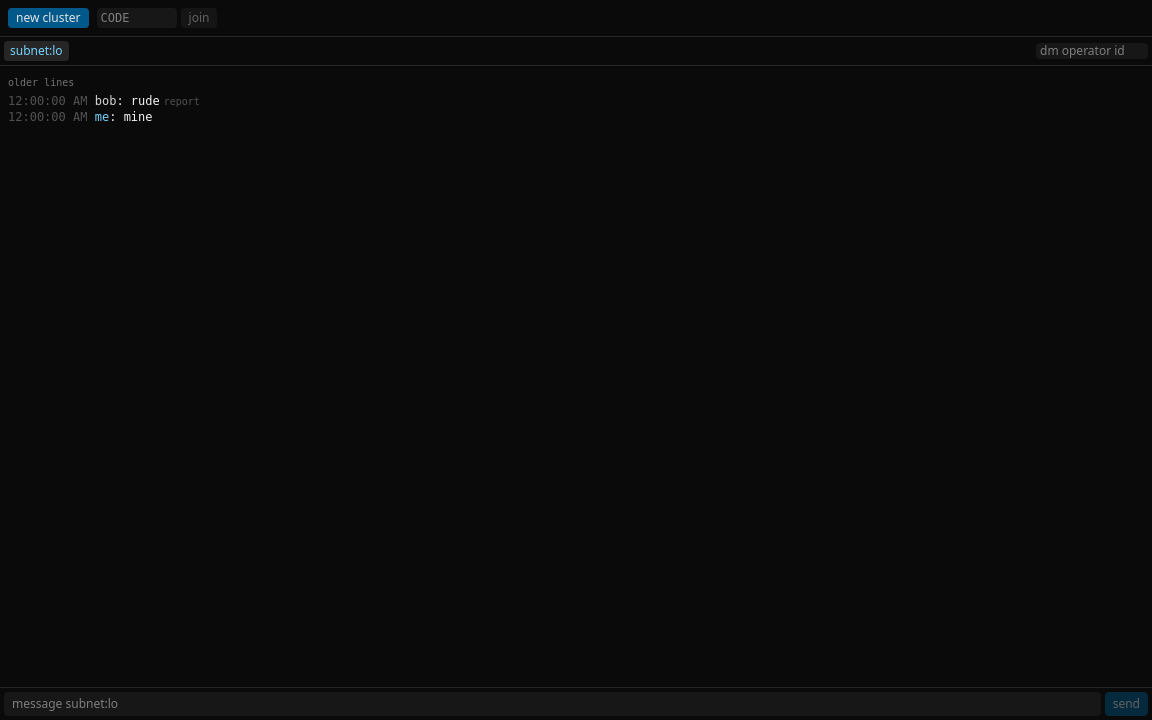
Scenario: ChatPanel › reports a line: reason and note go to the API, the reporter only sees "report received"; own lines have no report button
This screenshot has width=1152, height=720.
Click the button with test id "report-m1" at coordinates (182, 102), box [164, 95, 200, 109]
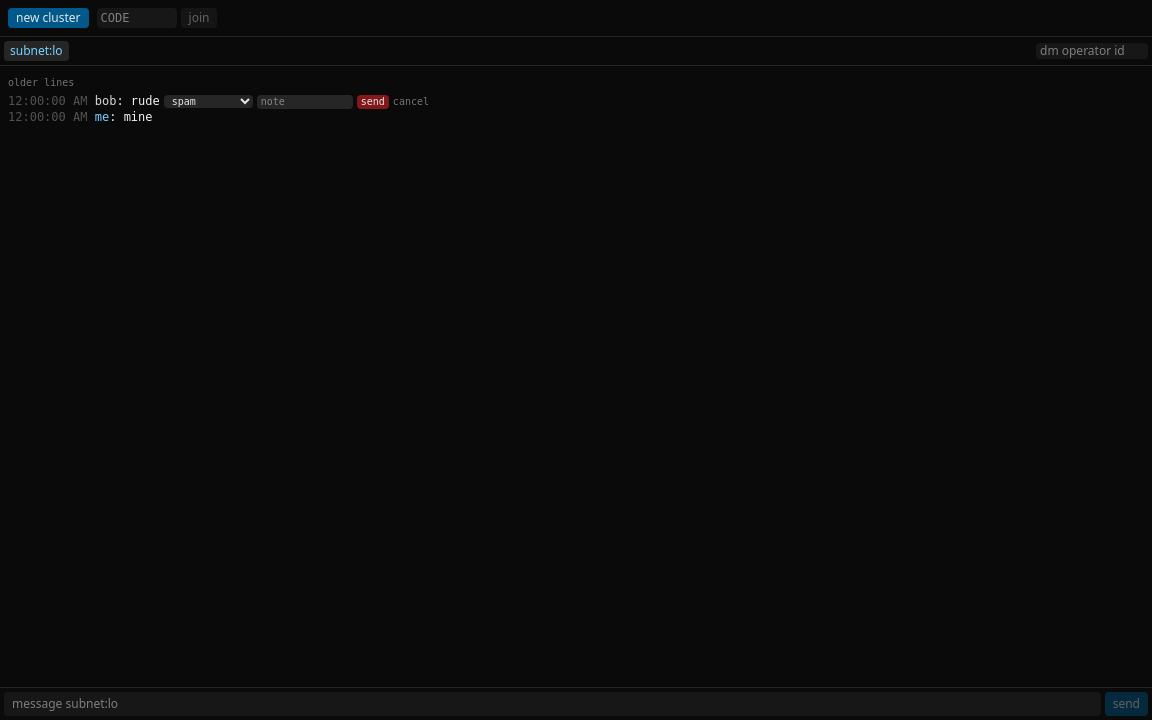
Click the button with test id "report-send" at coordinates (373, 102), box [357, 95, 389, 108]
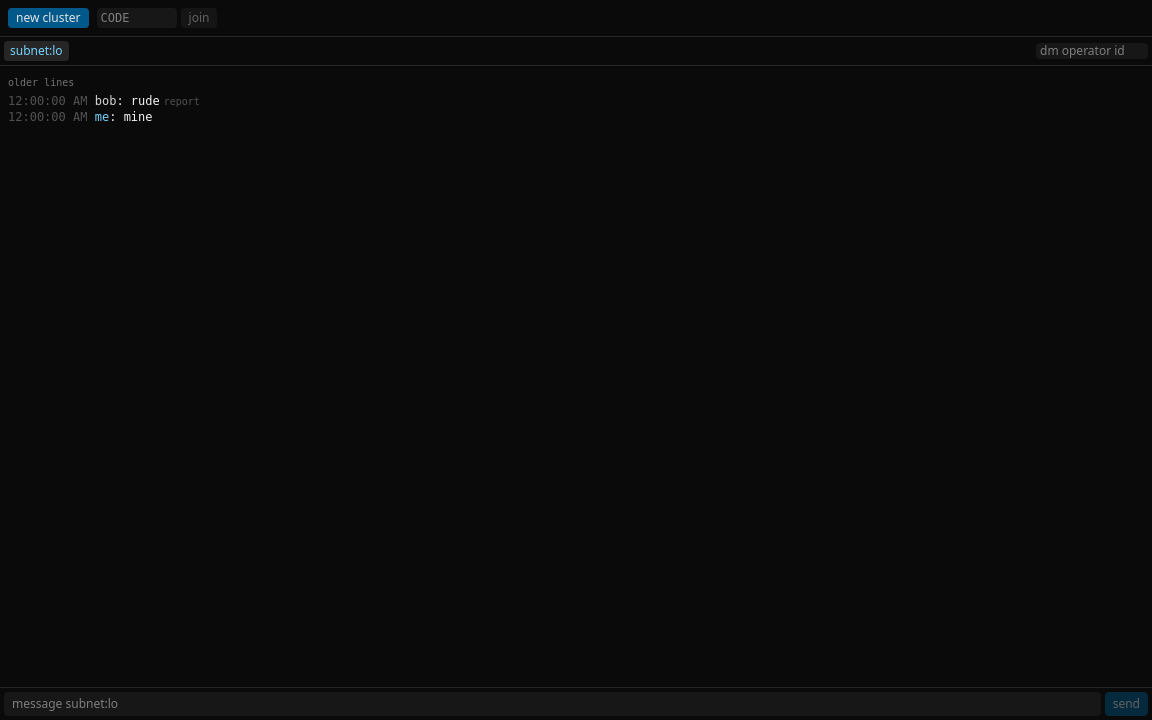
Check: the button with test id "report-send" is gone
